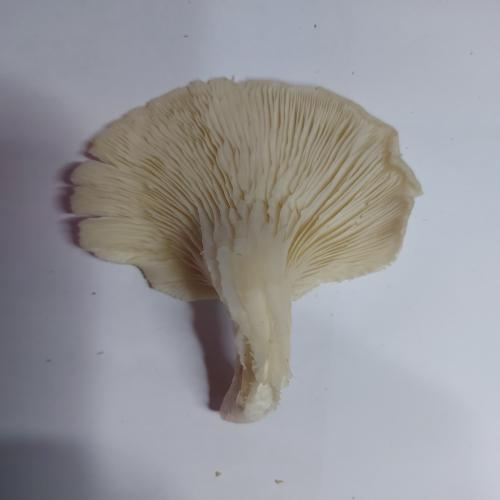Oyster Mushroom: (66, 76, 424, 424)
